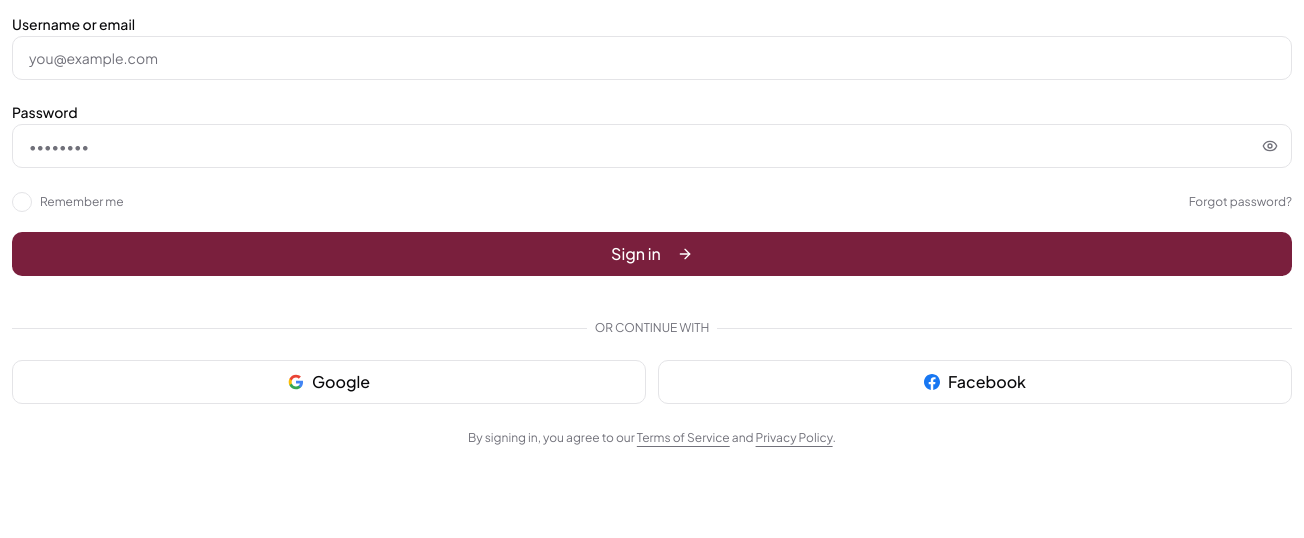
Test: LoginForm (F8.2) › shows a safe generic error banner on a 423 account locked response (F8.4)
Type "user@example.com" into the field labelled "Username or email" at (652, 58), box [12, 36, 1292, 80]
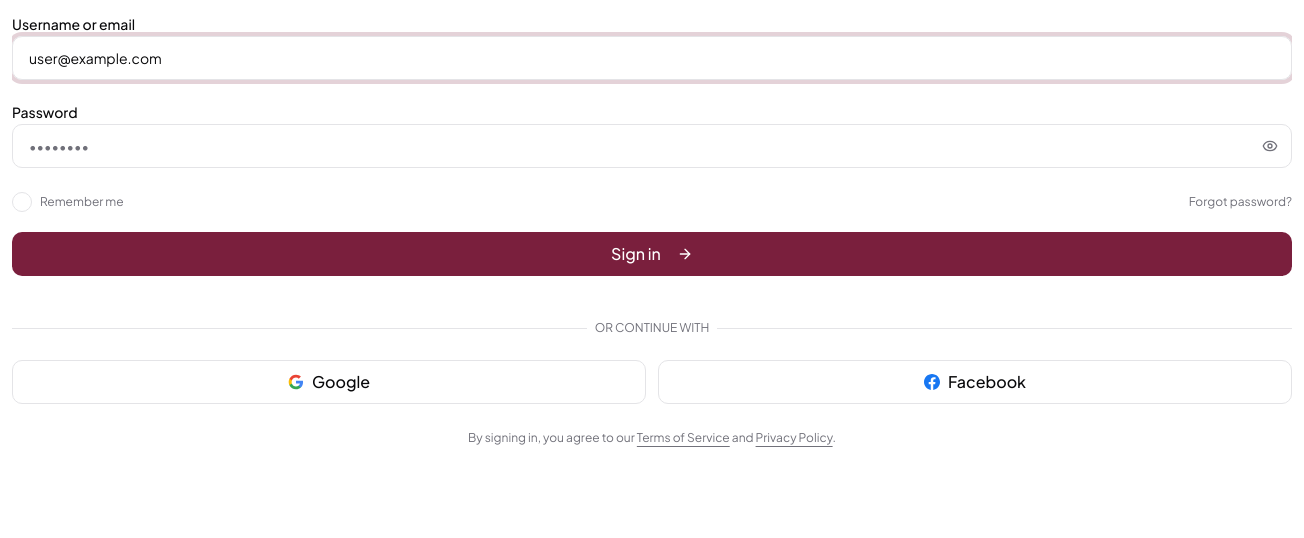
Type "password123" into the password field with placeholder "••••••••" at (652, 146), box [12, 124, 1292, 168]
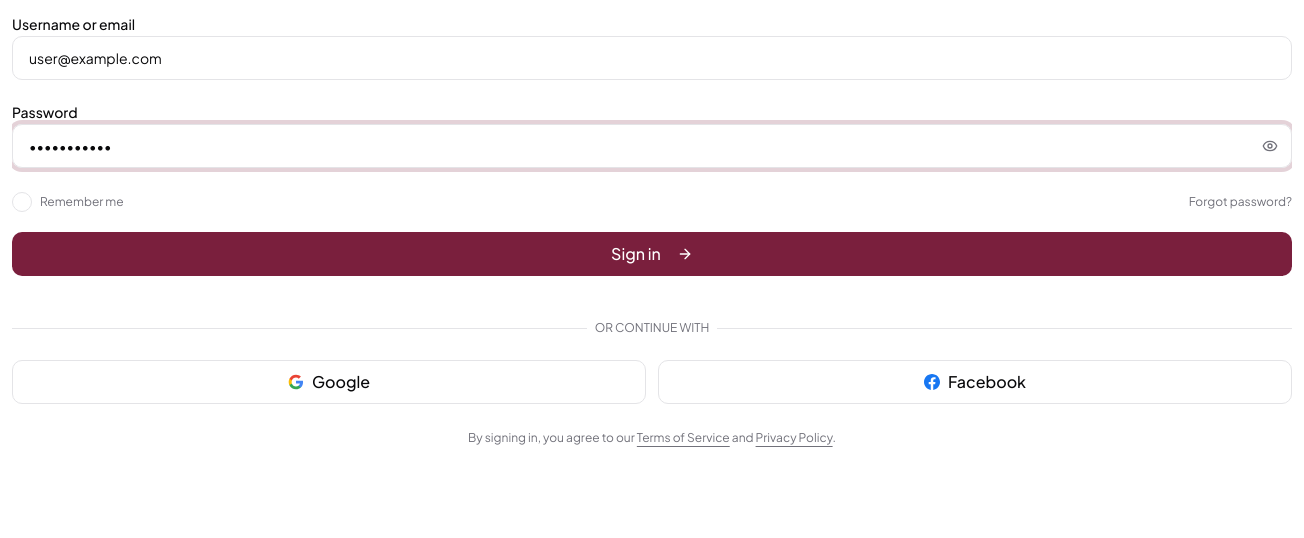
Click the button "Sign in" at (652, 254), box [12, 232, 1292, 276]
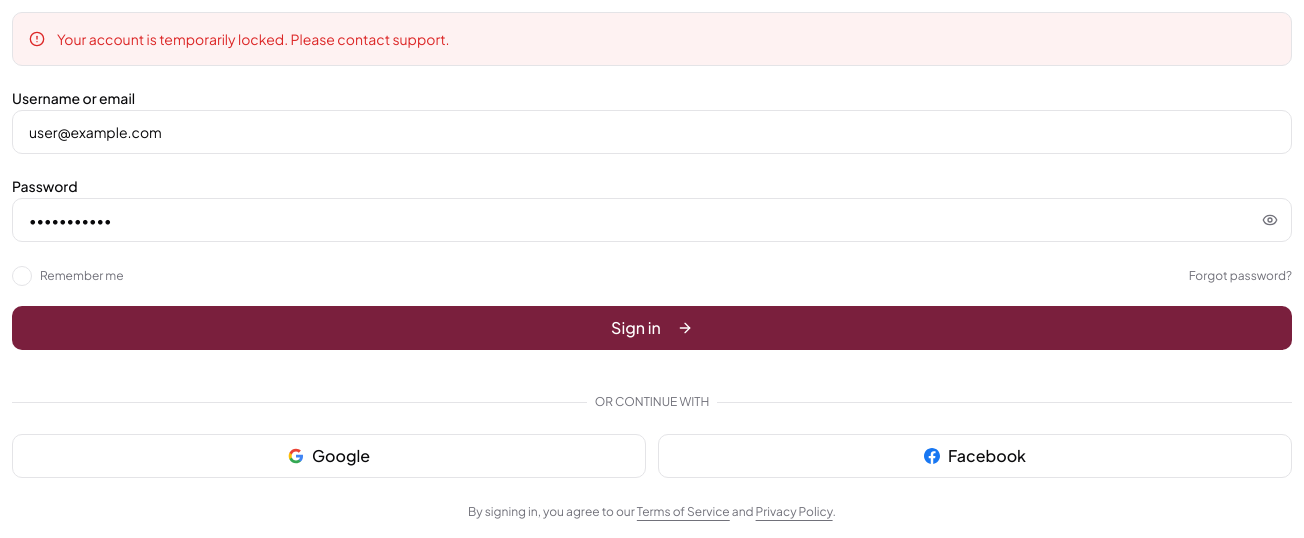
Expected: the message "Your account is temporarily locked. Please contact support." is shown, [12, 12, 1292, 66]
Expected: the message reads "Your account is temporarily locked. Please contact support.", [57, 30, 450, 48]
